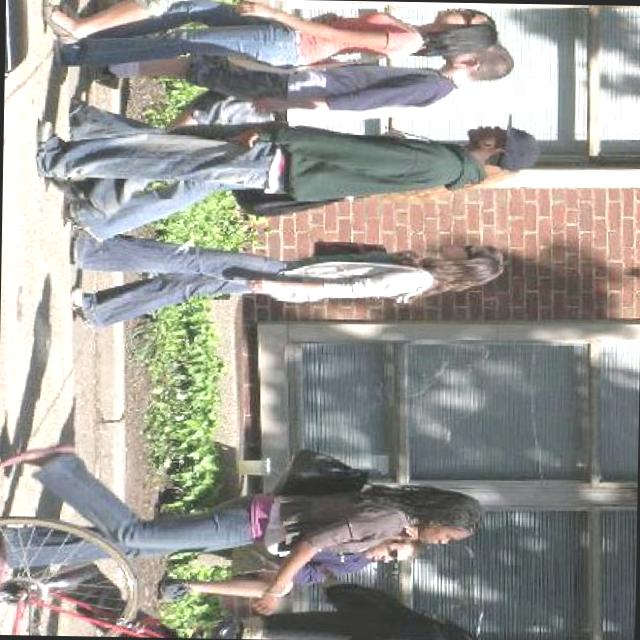Person: (0, 435, 492, 621), (50, 230, 508, 332), (56, 114, 544, 204), (118, 40, 528, 112), (39, 0, 518, 60)
